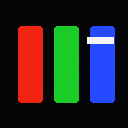3 line_h: (87, 37, 113, 43)
